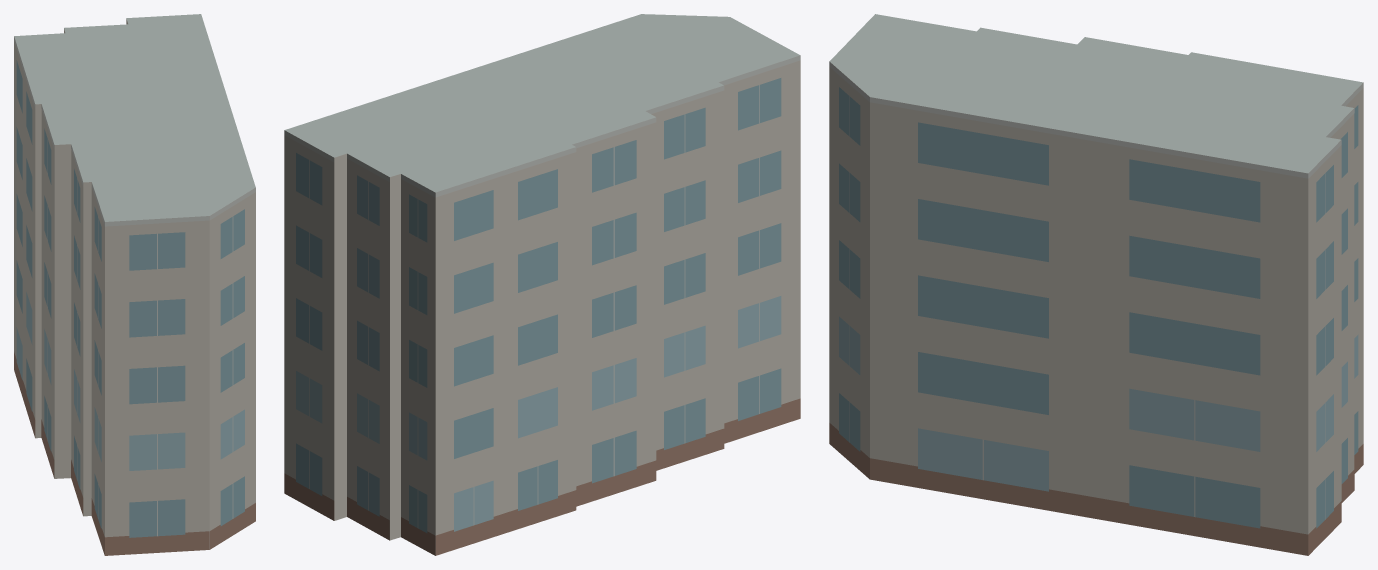
The model's file is survey-upis-32698426.glb.
The picture shows the model from 3 angles, left to right: view 1: azimuth 30°, elevation 25°; view 2: azimuth 150°, elevation 25°; view 3: azimuth 270°, elevation 25°; orthographic projection. The views are drawn at different scales.
Parts seen in each view (by area): view 1: survey-upis-32698426.tmp; view 2: survey-upis-32698426.tmp; view 3: survey-upis-32698426.tmp.
Boxes of the visible parts, x1,y1,x2,y2 form: survey-upis-32698426.tmp: [14, 14, 255, 555]; survey-upis-32698426.tmp: [284, 14, 800, 555]; survey-upis-32698426.tmp: [829, 14, 1363, 555].
Size of the model in its own units: 15.8 by 17.66 by 22.36.
